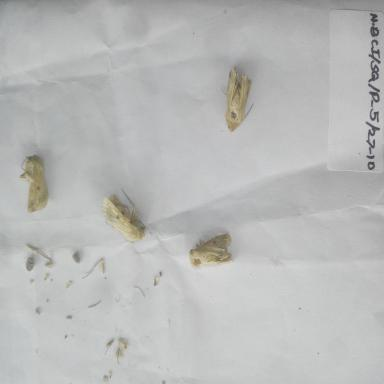abw: (98, 185, 150, 249), (183, 225, 241, 276), (219, 62, 256, 138), (17, 150, 52, 216)
